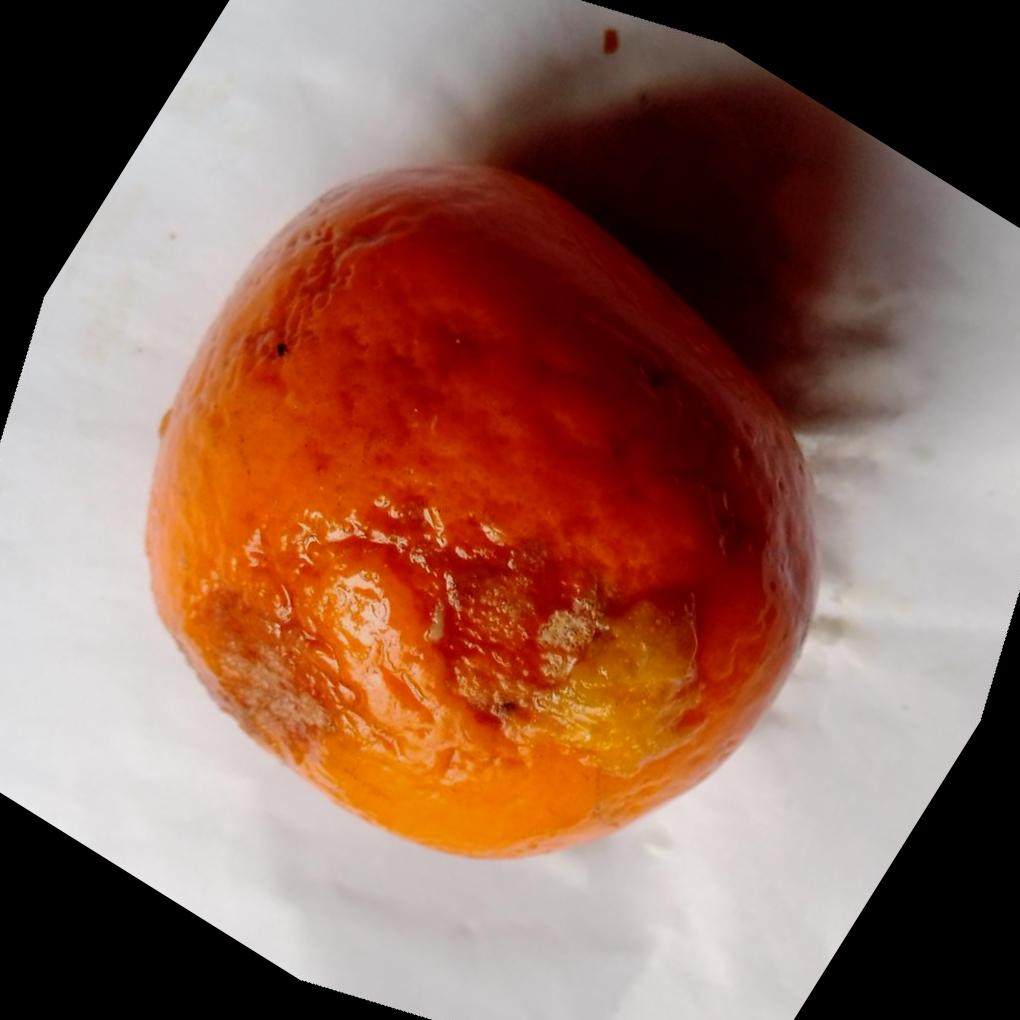FreshOrange: (142, 156, 821, 859)
